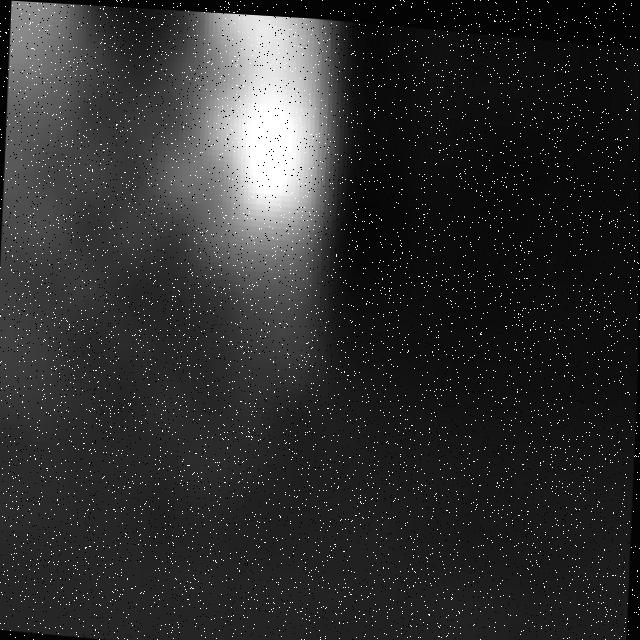person: (150, 8, 336, 461), (1, 1, 130, 516)
